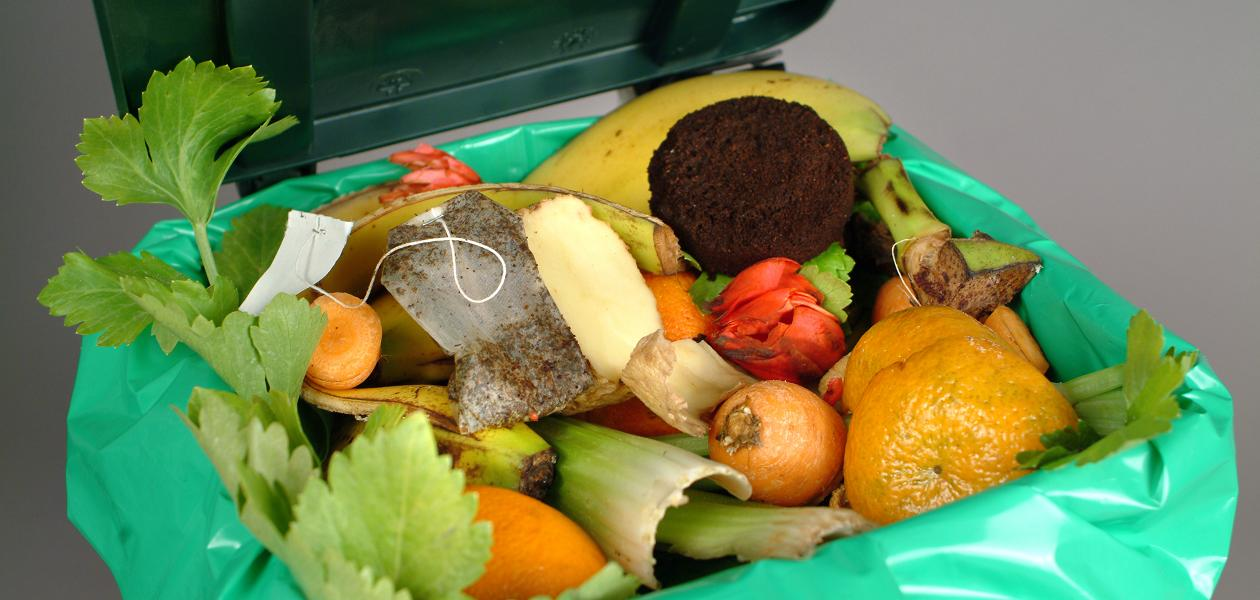organic: (377, 191, 594, 432), (844, 306, 1077, 522), (286, 407, 490, 599), (648, 96, 853, 276), (77, 57, 292, 225), (538, 417, 730, 582), (706, 246, 850, 383), (709, 381, 845, 505)
